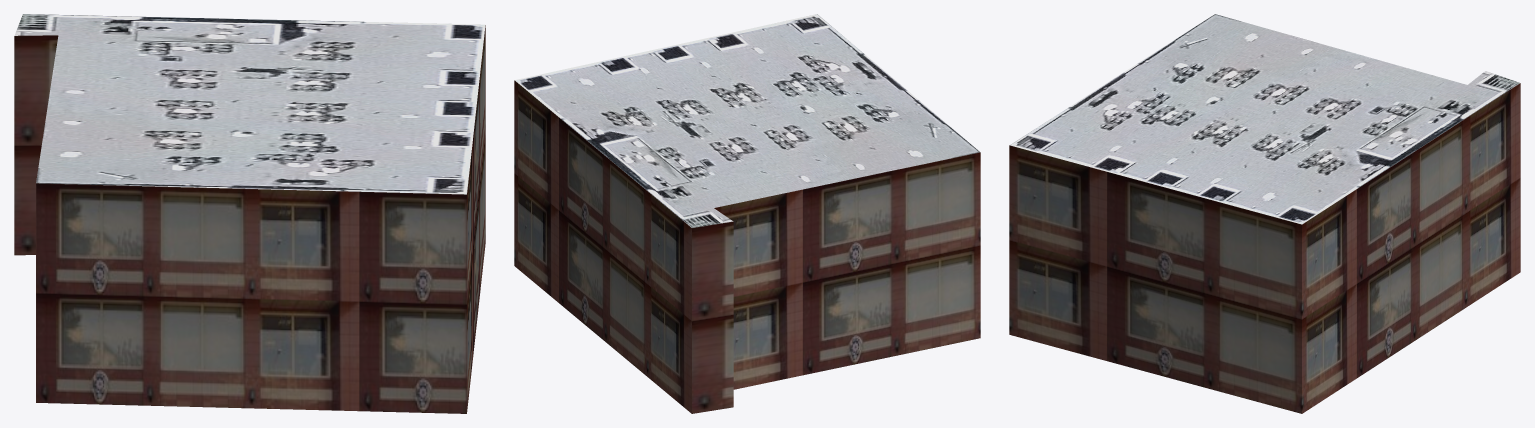
The model's file is ResTex__4104.fbx.
The picture shows the model from 3 angles, left to right: view 1: azimuth 30°, elevation 25°; view 2: azimuth 150°, elevation 25°; view 3: azimuth 270°, elevation 25°; orthographic projection. The views are drawn at different scales.
Visible parts, largest first — view 1: CityEngineMaterial_13_m, CityEngineMaterial_8_m; view 2: CityEngineMaterial_13_m, CityEngineMaterial_8_m; view 3: CityEngineMaterial_13_m, CityEngineMaterial_8_m.
Boxes of the visible parts, bbox=[...] form: CityEngineMaterial_13_m: bbox=[14, 25, 485, 413]; CityEngineMaterial_8_m: bbox=[14, 14, 485, 194]; CityEngineMaterial_13_m: bbox=[514, 80, 980, 413]; CityEngineMaterial_8_m: bbox=[514, 14, 979, 227]; CityEngineMaterial_13_m: bbox=[1009, 83, 1520, 413]; CityEngineMaterial_8_m: bbox=[1010, 14, 1519, 224].
Size of the model in its own units: 14.3 by 6 by 14.67.
Materials: 2 (2 with a texture image).
